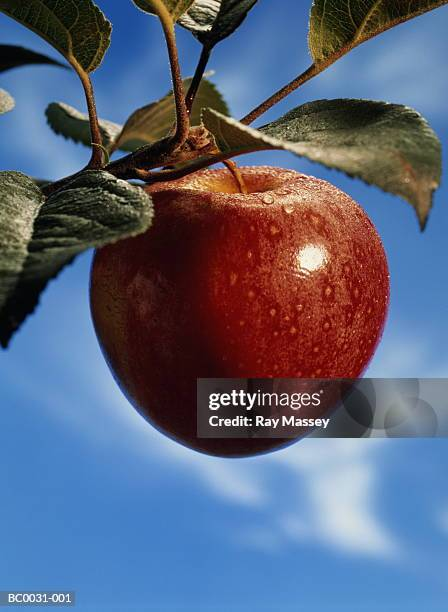apple/: (78, 163, 421, 486)
